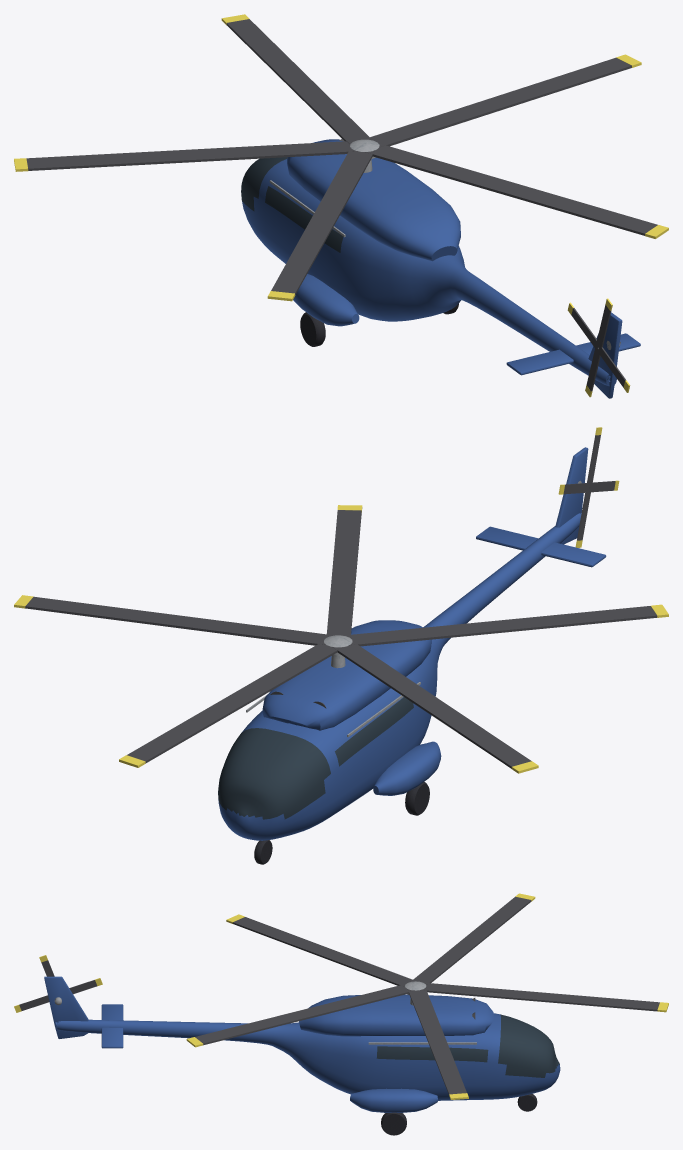
File: heli_heavy_blue.gltf
3 renders of one model, top to bottom at view 1: azimuth 30°, elevation 25°; view 2: azimuth 150°, elevation 25°; view 3: azimuth 270°, elevation 25°, orthographic. The views are drawn at different scales.
Parts seen in each view (by area): view 1: heli_heavy_blue; view 2: heli_heavy_blue; view 3: heli_heavy_blue.
Boxes of the visible parts, <box> form: heli_heavy_blue: <box>14,14,668,398</box>; heli_heavy_blue: <box>14,427,668,864</box>; heli_heavy_blue: <box>14,893,668,1135</box>.
Size of the model in its own units: 13.44 by 4.63 by 18.15.
8 materials, 3 textured.
